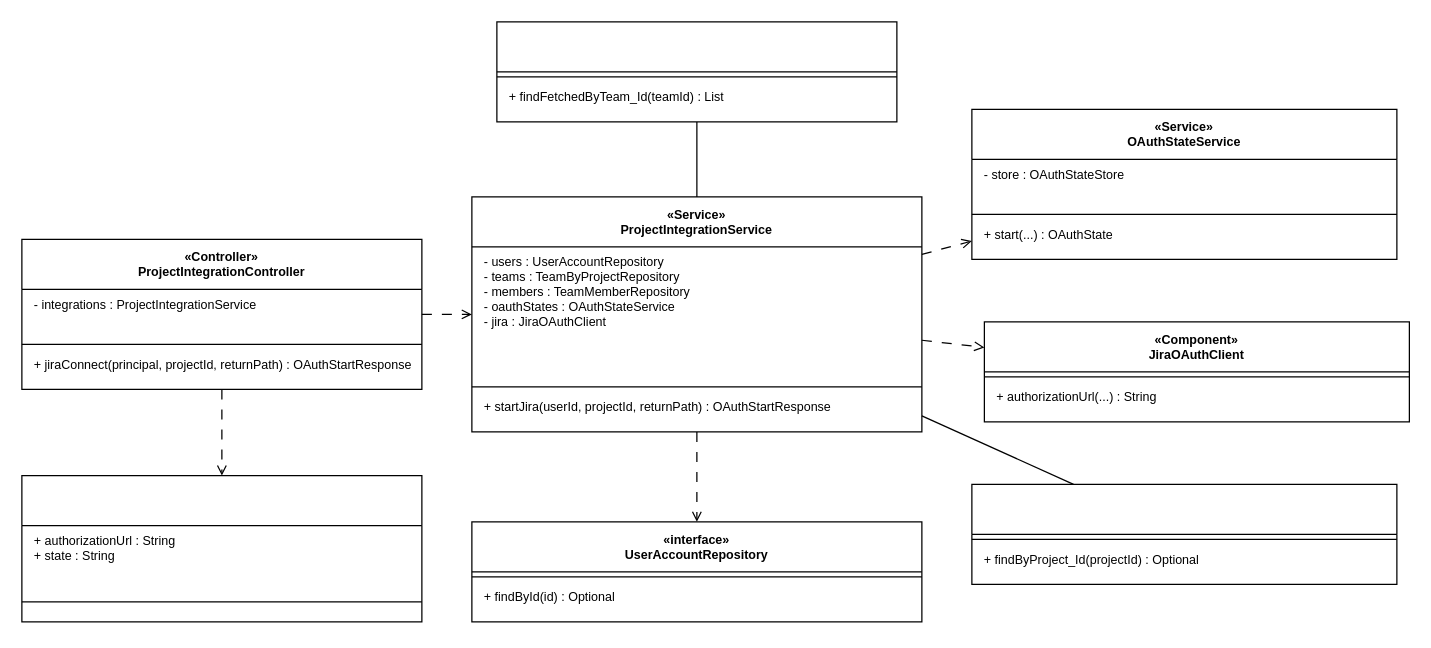
This 1431x648 diagram has some shape labels left out. Each missing label, with the box of its shape:
«interface» TeamByProjectRepository: (971, 483, 1397, 584)
«interface» TeamMemberRepository: (496, 21, 897, 122)
«Response» OAuthStartResponse: (21, 474, 422, 622)
